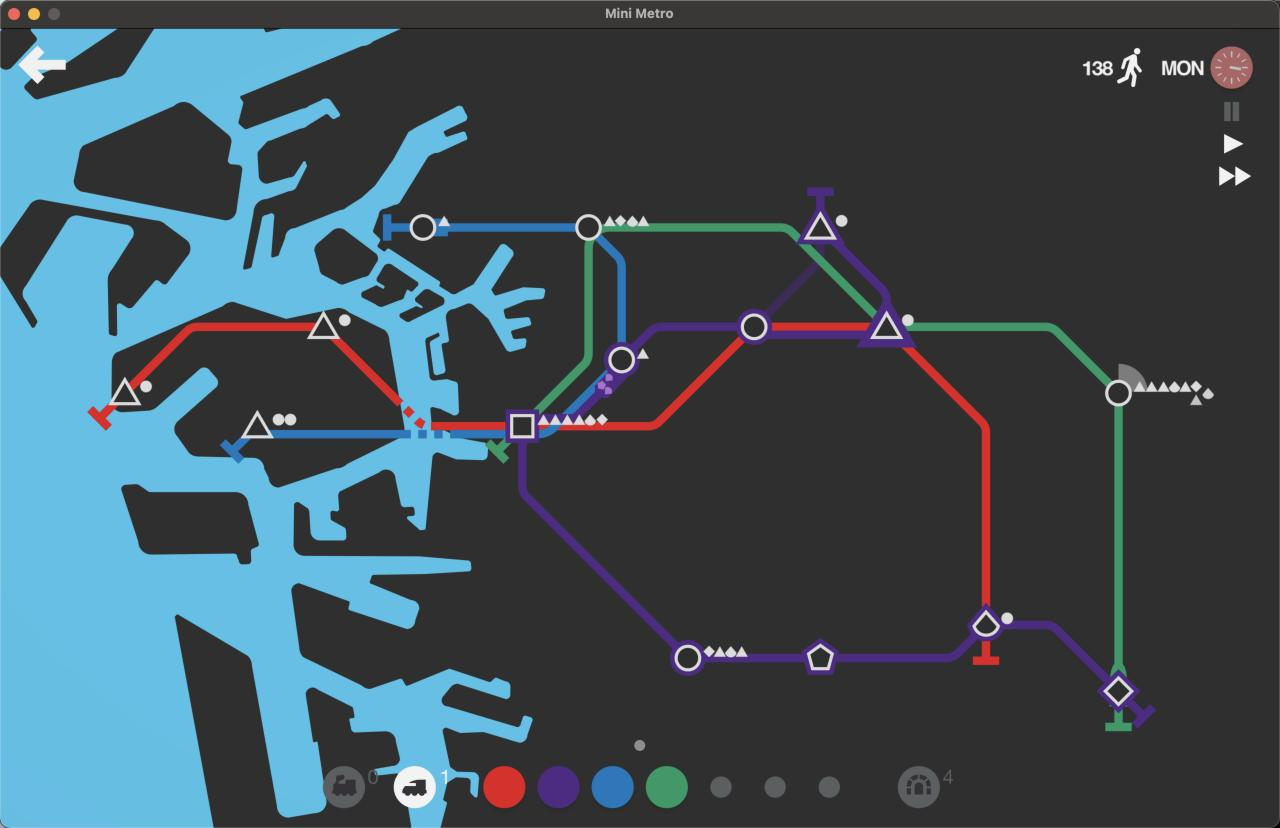CIRCLE: (737, 308, 773, 346), (672, 643, 704, 675), (606, 343, 637, 375), (409, 213, 438, 242), (1104, 378, 1133, 407), (575, 213, 603, 241)
GEM: (1097, 672, 1137, 713)
PENTAGON: (804, 639, 838, 674)
SQUARE: (506, 410, 539, 442)
TRIANGLE: (109, 376, 143, 409), (802, 211, 837, 243), (240, 409, 276, 440), (306, 309, 341, 340), (869, 310, 903, 341)
WEDGE: (968, 606, 1002, 642)
